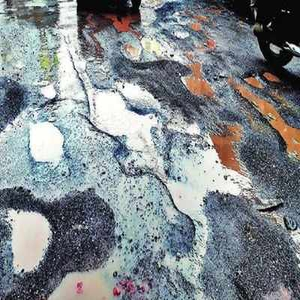pothole: (84, 90, 167, 156), (5, 192, 53, 277), (25, 120, 69, 167)
